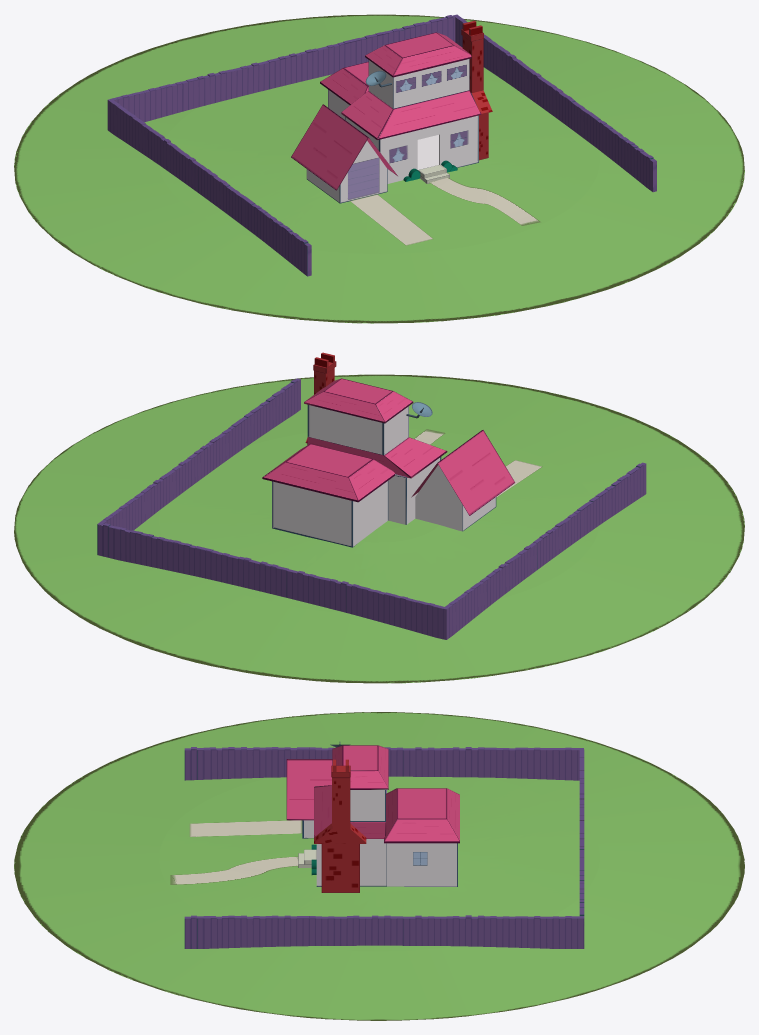
File: casaCompleta.obj
3 views of the same model, one above another, from view 1: azimuth 30°, elevation 25°; view 2: azimuth 150°, elevation 25°; view 3: azimuth 270°, elevation 25° (orthographic).
Visible parts, largest first — view 1: Cono, Cubo.004_Cubo.006, Cubo.003_Cubo.005, Cubo.002, Cubo, Cubo.005_Cubo.009, Plano, Cubo.001, Cubo.006_Cubo.008, Cubo.003_Cubo.004, Plano.002, Curva_Bézier_Curva_Bézier.001 (+1 smaller); view 2: Cono, Cubo.004_Cubo.006, Cubo.003_Cubo.005, Cubo.002, Cubo.002_Cubo.003, Plano, Cubo.001, Cubo.006_Cubo.008, Cubo.003_Cubo.004, Cubo.005_Cubo.009, Cubo; view 3: Cono, Cubo.002, Cubo.003_Cubo.005, Cubo.004_Cubo.006, Cubo.002_Cubo.003, Plano.001, Cubo.006_Cubo.008, Cubo.007_Cubo.010, Plano.002, Curva_Bézier_Curva_Bézier.001, Cubo, Cubo.005_Cubo.009 (+3 smaller).
Boxes of the visible parts, x1,y1,x2,y2 form: Cono: (14,14,744,323); Cubo.004_Cubo.006: (111,15,455,122); Cubo.003_Cubo.005: (107,99,311,276); Cubo.002: (453,14,656,192); Cubo: (345,115,478,183); Cubo.005_Cubo.009: (341,90,481,139); Plano: (291,104,368,190); Cubo.001: (368,59,469,108); Cubo.006_Cubo.008: (365,32,471,77); Cubo.003_Cubo.004: (306,141,387,203); Plano.002: (350,194,432,245); Curva_Bézier_Curva_Bézier.001: (429,177,540,225); Cono: (14,374,744,683); Cubo.004_Cubo.006: (97,444,445,639); Cubo.003_Cubo.005: (443,462,646,639); Cubo.002: (97,378,300,554); Cubo.002_Cubo.003: (272,481,388,547); Plano: (437,430,514,515); Cubo.001: (307,405,408,455); Cubo.006_Cubo.008: (304,378,413,423); Cubo.003_Cubo.004: (415,465,496,531); Cubo.005_Cubo.009: (307,437,447,478); Cubo: (388,457,441,524); Cono: (14,712,744,1020); Cubo.002: (184,915,583,948); Cubo.003_Cubo.005: (184,747,583,780); Cubo.004_Cubo.006: (384,749,584,948); Cubo.002_Cubo.003: (387,843,457,886); Plano.001: (286,759,332,820); Cubo.006_Cubo.008: (332,745,388,789); Cubo.007_Cubo.010: (321,843,359,892); Plano.002: (189,820,302,836); Curva_Bézier_Curva_Bézier.001: (170,856,298,884); Cubo: (316,790,386,886); Cubo.005_Cubo.009: (314,785,385,838).
Size of the model in its own units: 73.87 by 15.64 by 73.87.
